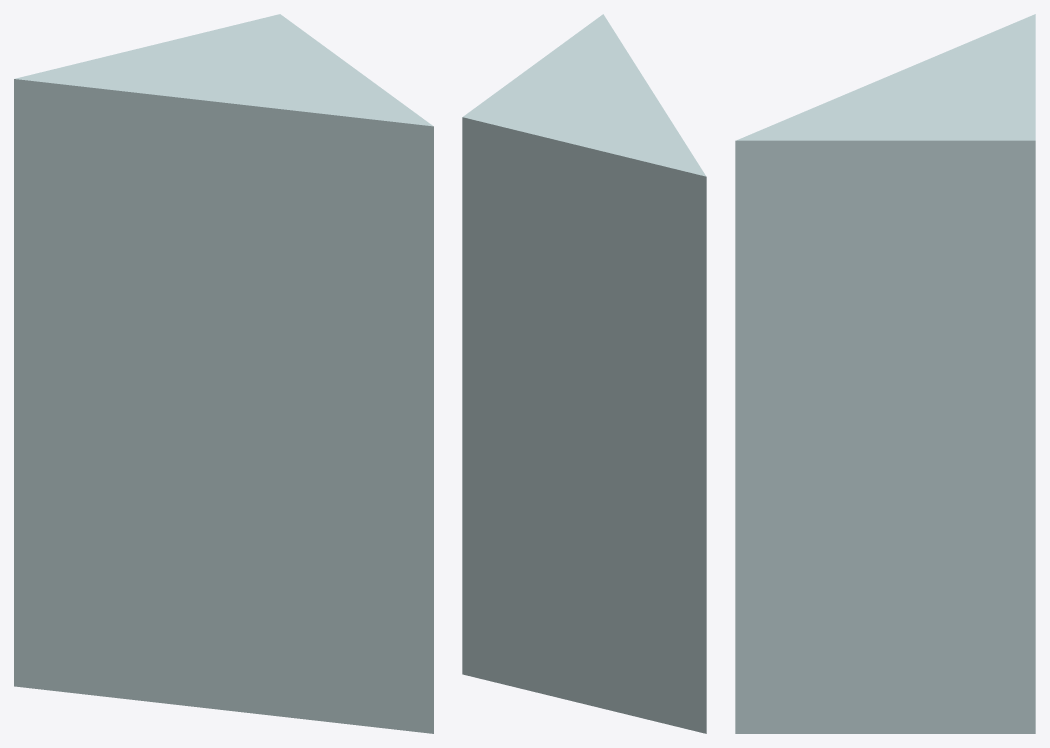
File: cliffGrey_cornerMid.glb
3 views of the same model, side by side, from view 1: azimuth 30°, elevation 25°; view 2: azimuth 150°, elevation 25°; view 3: azimuth 270°, elevation 25° (orthographic). The views are drawn at different scales.
Parts seen in each view (by area): view 1: cliffGrey_cornerMid; view 2: cliffGrey_cornerMid; view 3: cliffGrey_cornerMid.
Part boxes in pixels (left/top/right/bottom): cliffGrey_cornerMid: left=14, top=14, right=433, bottom=733; cliffGrey_cornerMid: left=462, top=14, right=706, bottom=733; cliffGrey_cornerMid: left=735, top=14, right=1035, bottom=733.
Size of the model in its own units: 0.4584 by 1 by 0.4584.
